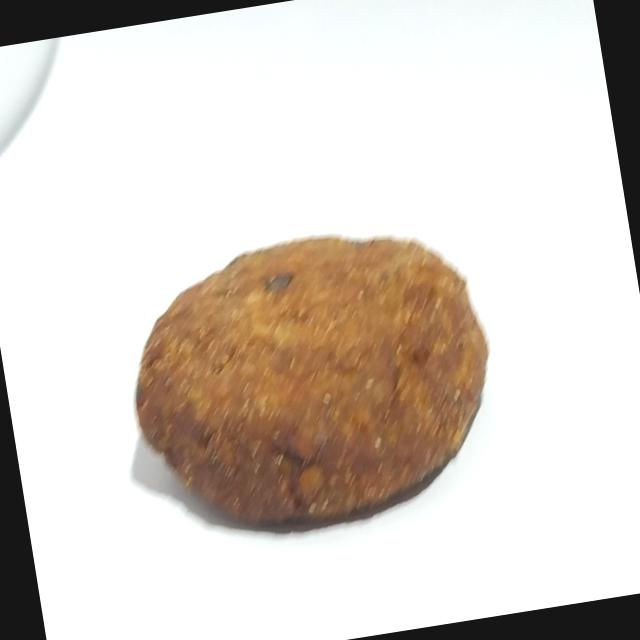Pajagua: (99, 201, 522, 572)
